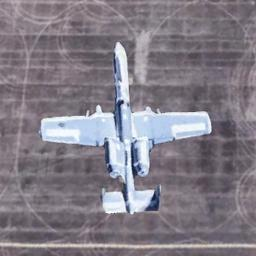Airplane: (38, 41, 212, 215)
